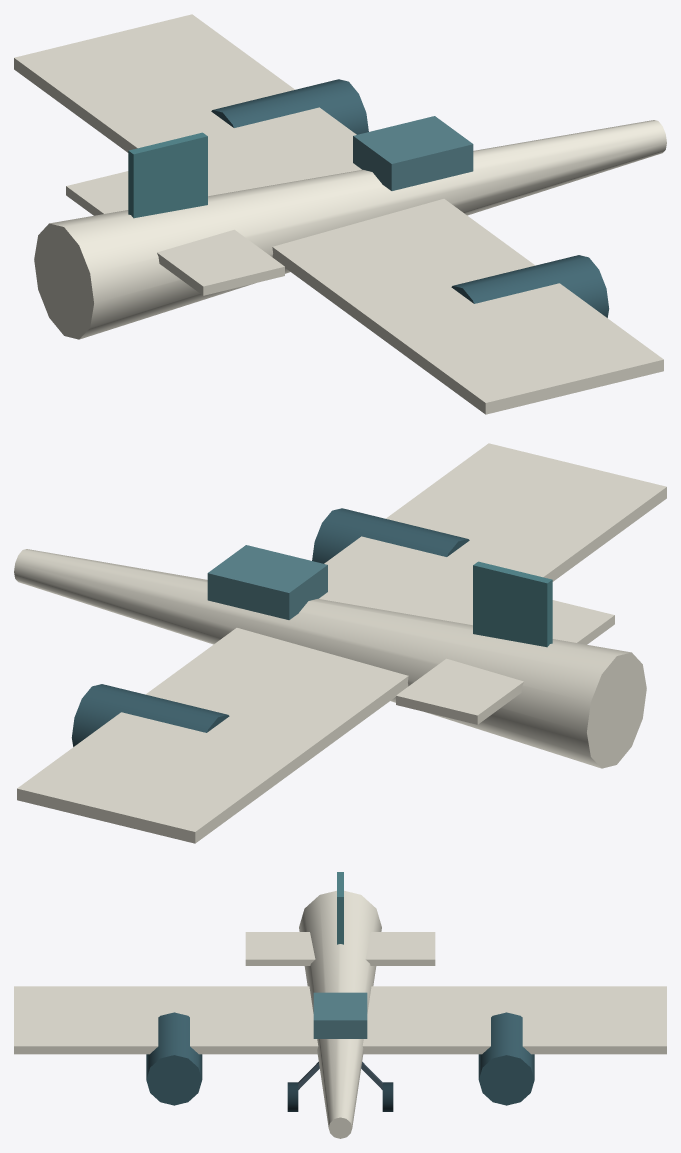
Rendered from cargo-jet.glb.
3 views of the same model, one above another, from view 1: azimuth 30°, elevation 25°; view 2: azimuth 150°, elevation 25°; view 3: azimuth 270°, elevation 25° (orthographic). The views are drawn at different scales.
Visible parts, largest first — view 1: cargo-jet (×7); view 2: cargo-jet (×7); view 3: cargo-jet (×7).
Part boxes in pixels (x1,y1,x2,y2): cargo-jet (×7): (14,14,666,414); cargo-jet (×7): (14,443,666,843); cargo-jet (×7): (14,872,666,1138).
Bounding box in the file's own units: 8 × 2.8 × 11.
